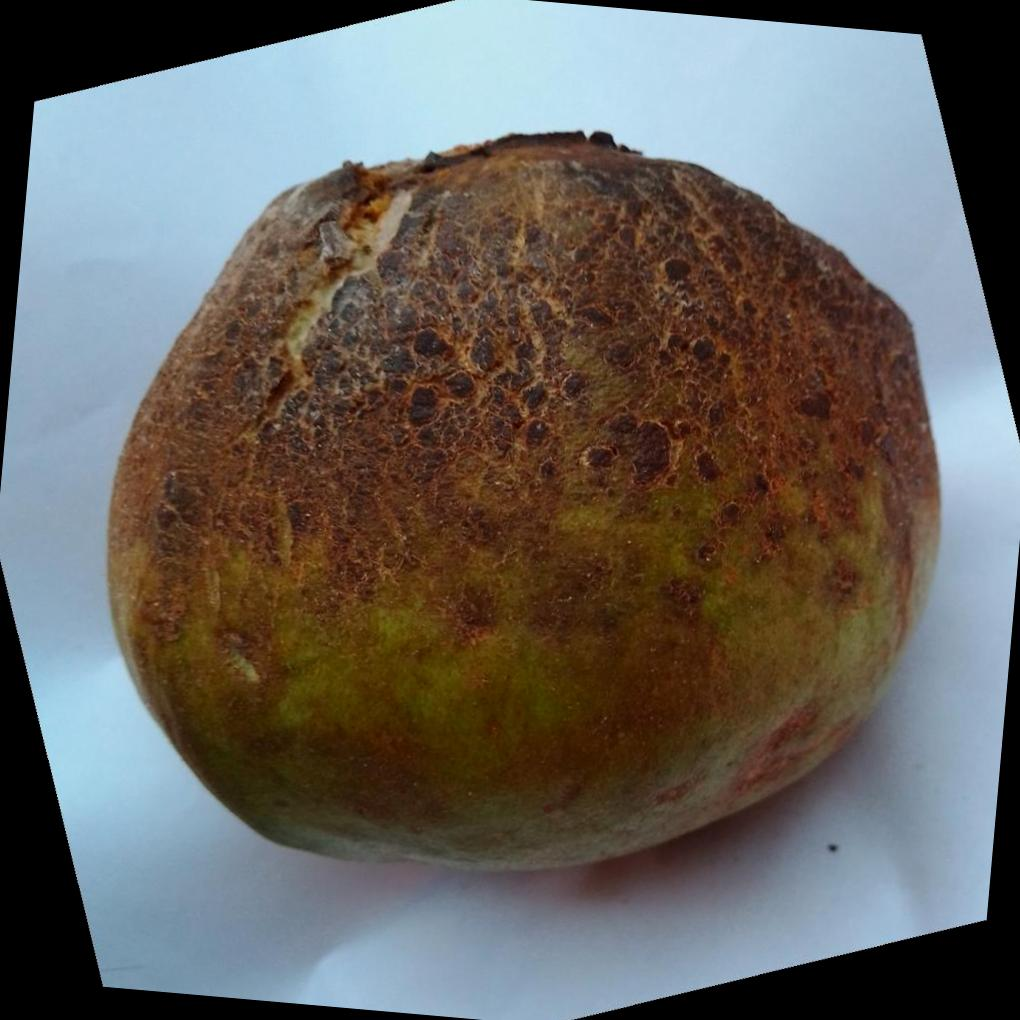FreshOrange: (103, 132, 943, 879)
